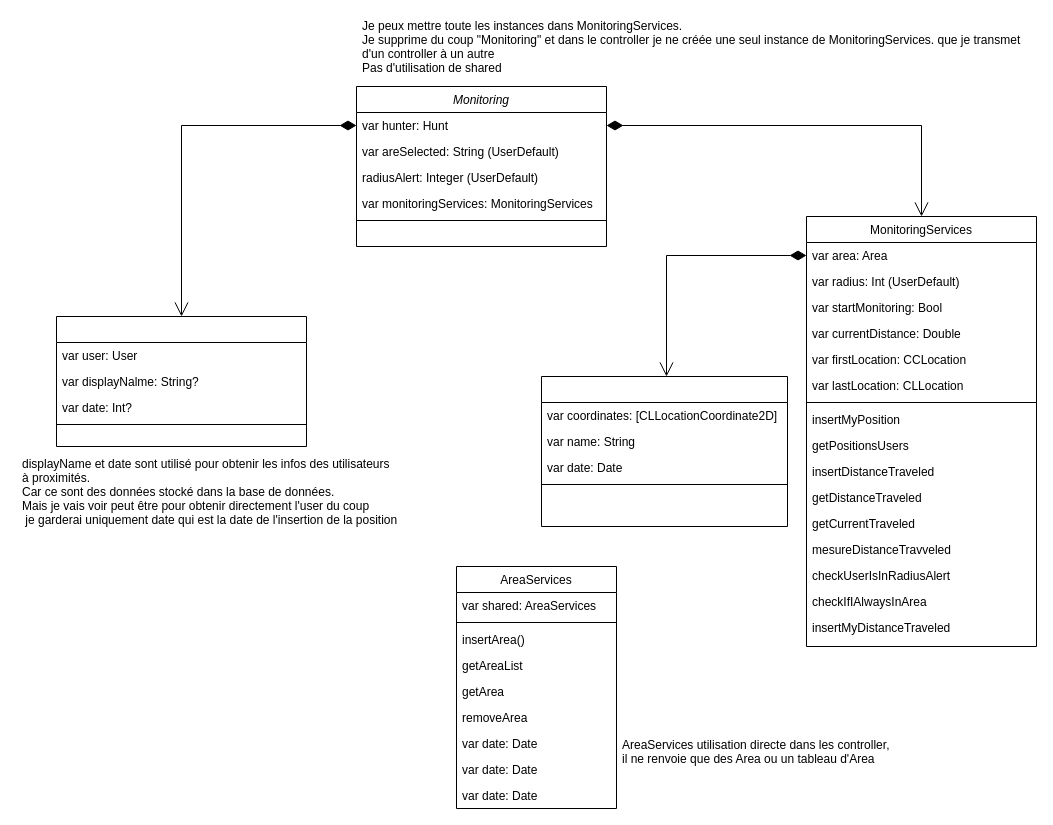
Image size: 1053x825. Some labels were removed from this diagram. The shapes that lost their labels are listed below. From the top down, each one's box as (x1, y1, x2, y2) in pixels, then its label:
(56, 316, 306, 446): Hunt
(540, 376, 788, 526): Area
